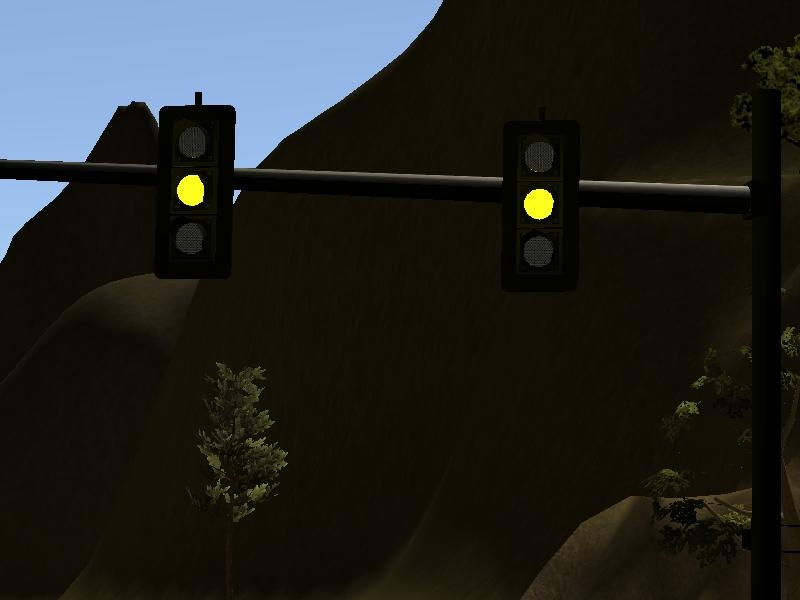yellow: (144, 82, 241, 290), (492, 99, 587, 299)
